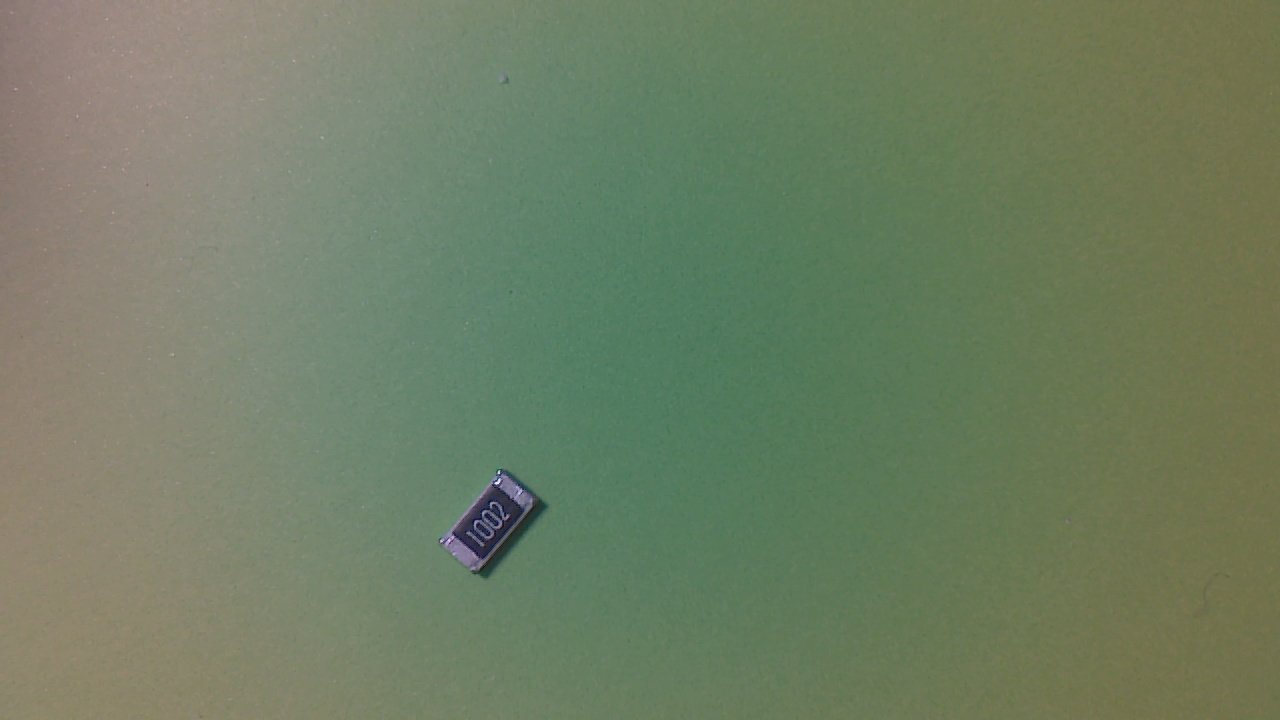Resistor: (438, 469, 556, 588)
